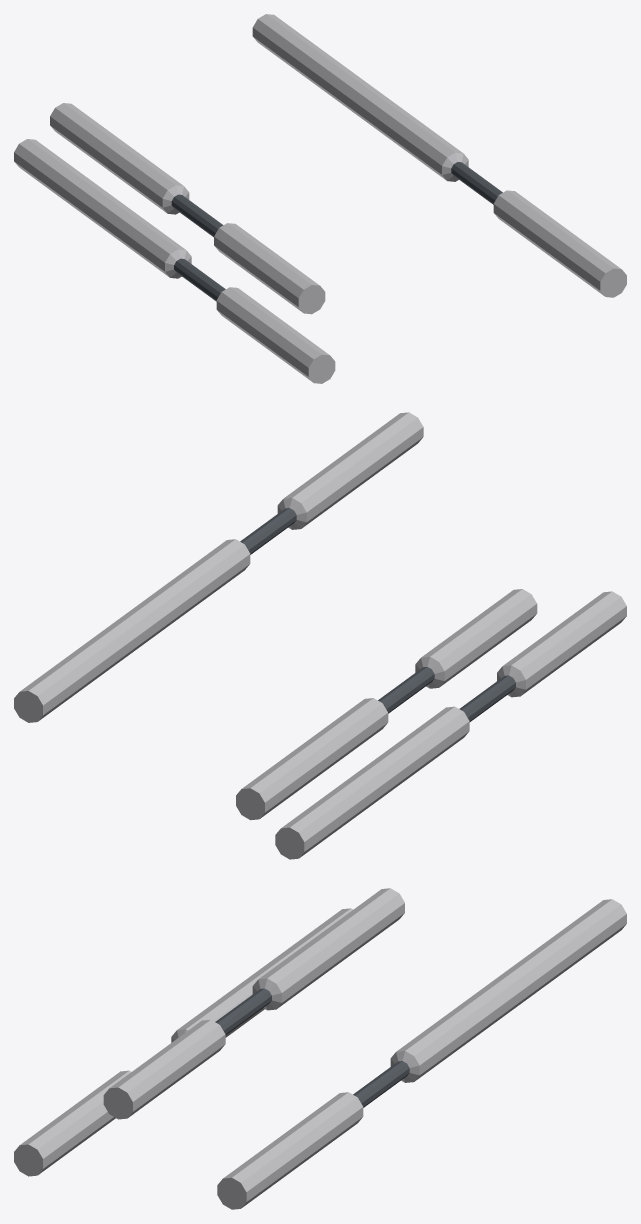
Rendered from Mothership_01_Antenna.fbx.
3 renders of one model, top to bottom at view 1: azimuth 30°, elevation 25°; view 2: azimuth 150°, elevation 25°; view 3: azimuth 330°, elevation 25°, orthographic. The views are drawn at different scales.
Visible parts, largest first — view 1: Mothership_01_Antenna; view 2: Mothership_01_Antenna; view 3: Mothership_01_Antenna.
Part boxes in pixels (bbox=[...]): Mothership_01_Antenna: bbox=[14, 14, 626, 383]; Mothership_01_Antenna: bbox=[14, 412, 626, 859]; Mothership_01_Antenna: bbox=[14, 888, 626, 1209].
Bounding box in the file's own units: 649 × 224 × 1473.
1 material, 1 textured.
